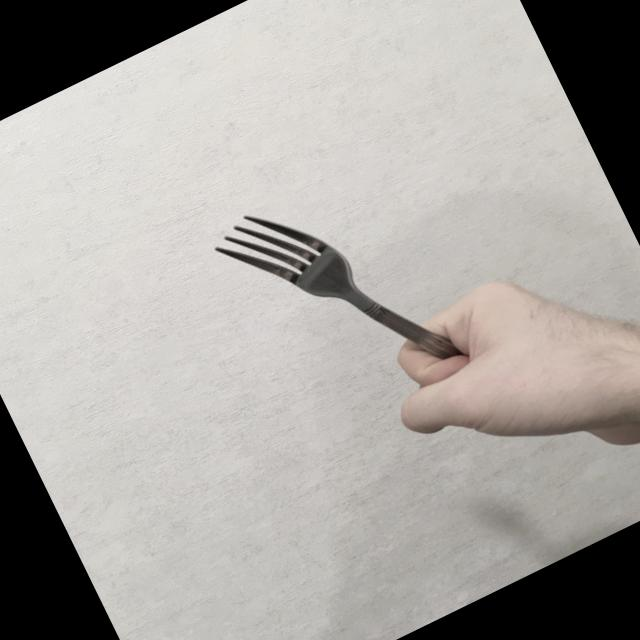fork: (201, 138, 504, 453)
